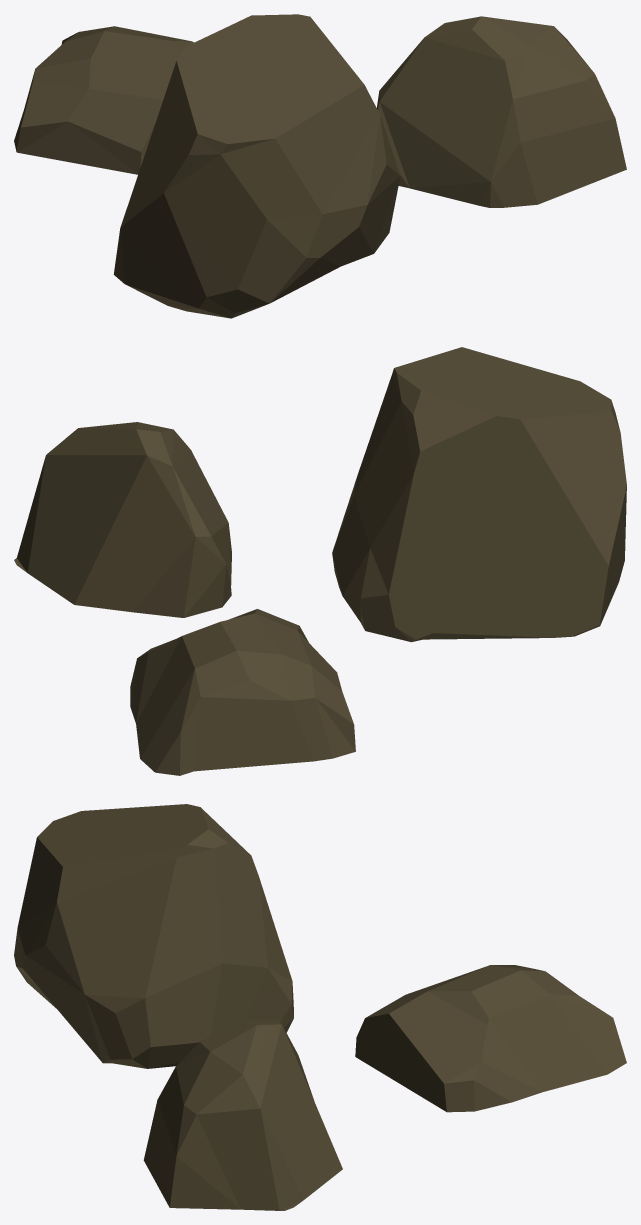
The model's file is rockGroup02.fbx.
The picture shows the model from 3 angles, top to bottom: view 1: azimuth 30°, elevation 25°; view 2: azimuth 150°, elevation 25°; view 3: azimuth 270°, elevation 25°; orthographic projection. The views are drawn at different scales.
Parts seen in each view (by area): view 1: rockGroup02; view 2: rockGroup02; view 3: rockGroup02.
Part boxes in pixels (x1=…): rockGroup02: x1=14, y1=14, x2=626, y2=318; rockGroup02: x1=14, y1=347, x2=626, y2=775; rockGroup02: x1=14, y1=804, x2=626, y2=1210.
Size of the model in its own units: 337 by 141 by 363.
